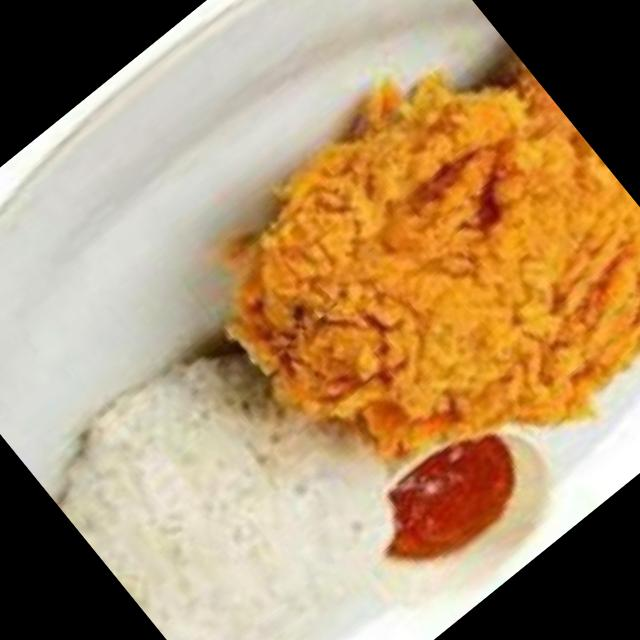Fried Chicken: (223, 53, 640, 461)
